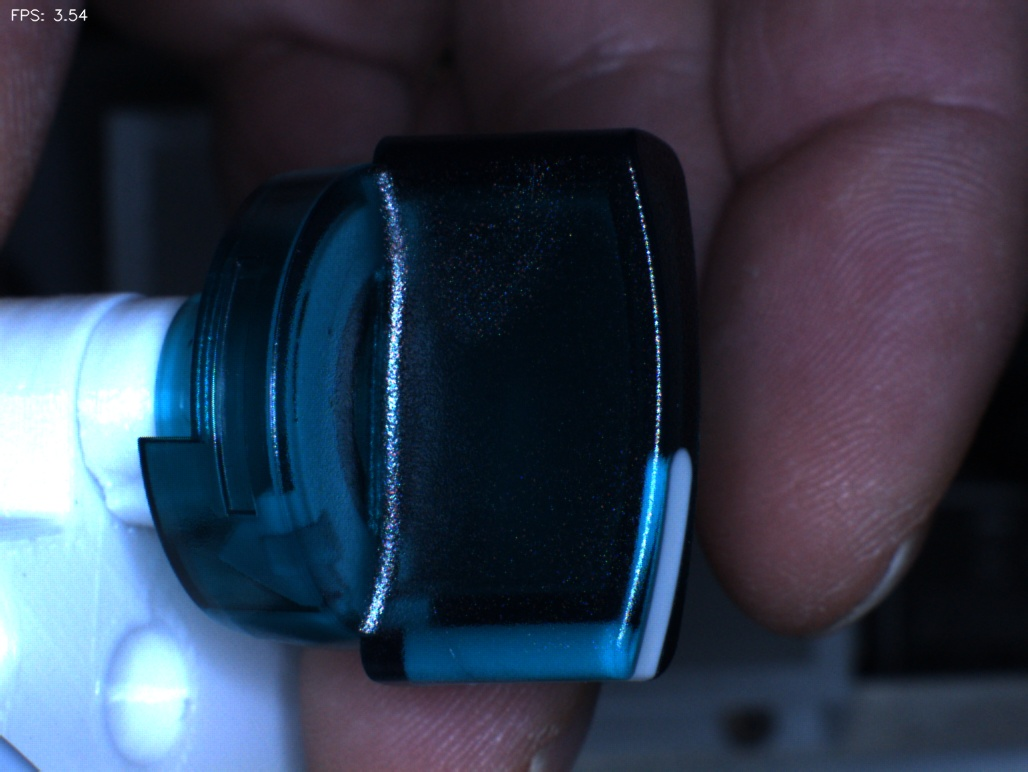PointNoir: (296, 295, 370, 370)
